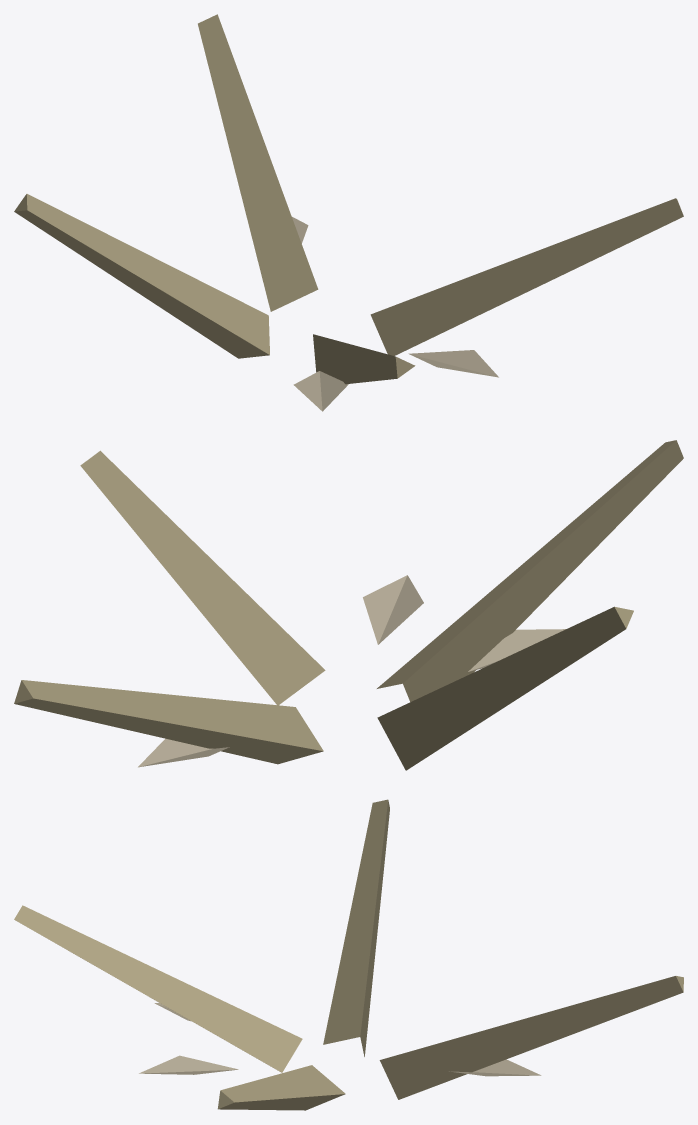
The model's file is guan.lianqiao@withered__summer.glb.
3 renders of one model, top to bottom at view 1: azimuth 30°, elevation 25°; view 2: azimuth 150°, elevation 25°; view 3: azimuth 270°, elevation 25°, orthographic. The views are drawn at different scales.
Visible parts, largest first — view 1: guan.lianqiao@withered__summer; view 2: guan.lianqiao@withered__summer; view 3: guan.lianqiao@withered__summer.
Boxes of the visible parts, x1,y1,x2,y2 form: guan.lianqiao@withered__summer: (14, 14, 683, 411); guan.lianqiao@withered__summer: (14, 440, 683, 770); guan.lianqiao@withered__summer: (14, 799, 683, 1110).
Bounding box in the file's own units: 0.7914 × 0.273 × 0.9291.
